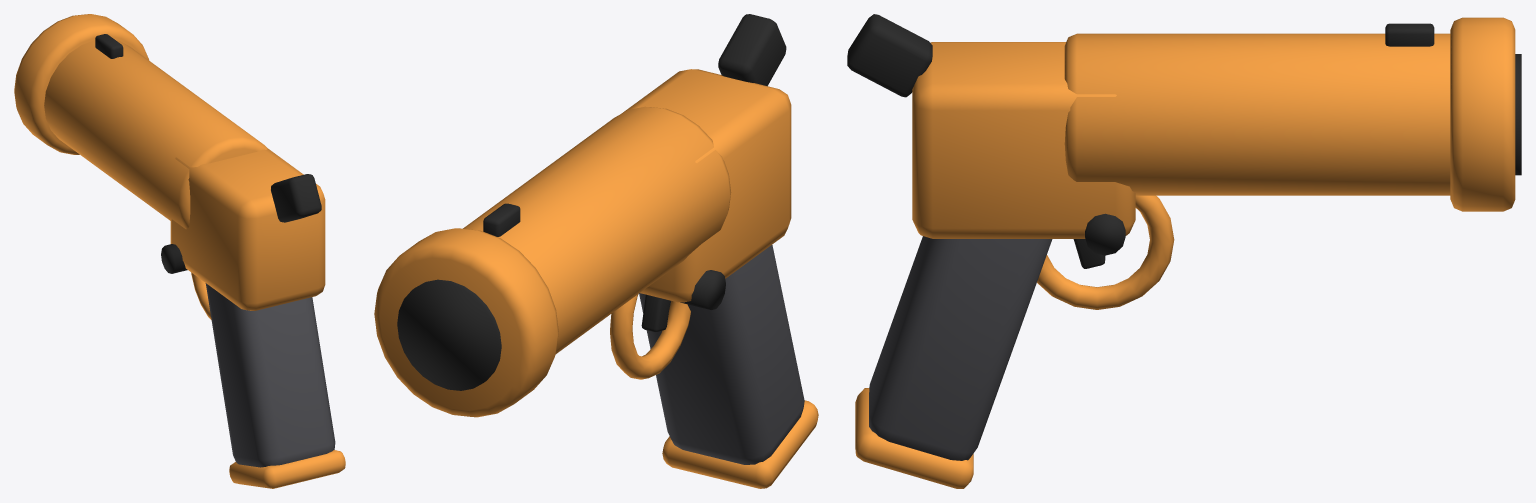
The model's file is Flare.fbx.
3 views of the same model, side by side, from view 1: azimuth 30°, elevation 25°; view 2: azimuth 150°, elevation 25°; view 3: azimuth 270°, elevation 25° (orthographic). The views are drawn at different scales.
Visible parts, largest first — view 1: Flare_Plastic, Flare_Grip, Flare_Dark; view 2: Flare_Plastic, Flare_Grip, Flare_Dark; view 3: Flare_Plastic, Flare_Grip, Flare_Dark.
Boxes of the visible parts, box(x1,y1,x2,y2) form: Flare_Plastic: box(14, 14, 345, 488); Flare_Grip: box(205, 283, 335, 467); Flare_Dark: box(95, 34, 321, 273); Flare_Plastic: box(374, 69, 818, 488); Flare_Grip: box(639, 245, 804, 464); Flare_Dark: box(397, 14, 786, 390); Flare_Plastic: box(855, 17, 1515, 488); Flare_Grip: box(869, 236, 1052, 460); Flare_Dark: box(847, 14, 1521, 268).
Bounding box in the file's own units: 0.48 × 1.21 × 1.66.
